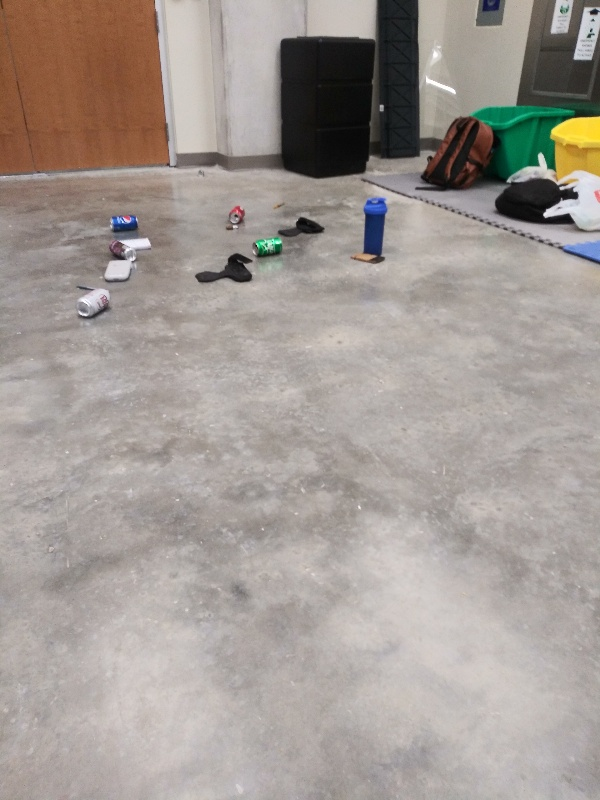can: (73, 285, 114, 317), (250, 235, 284, 259), (107, 238, 138, 261), (108, 214, 139, 234), (227, 203, 247, 226)
